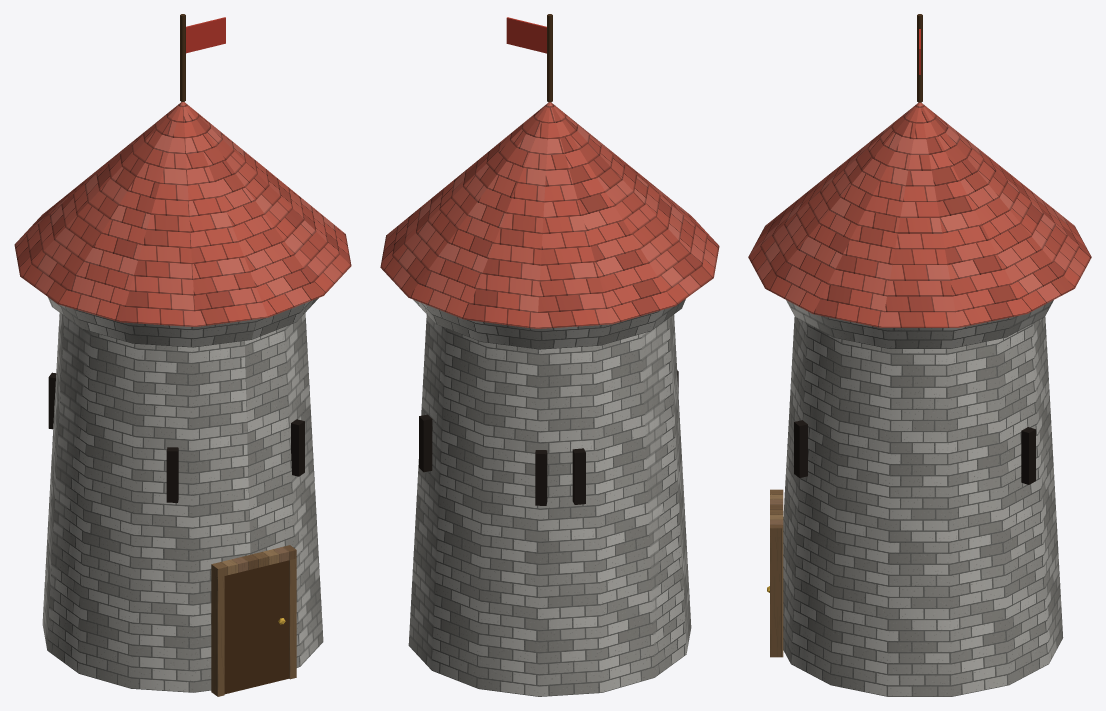
The model's file is roundtower.glb.
3 renders of one model, left to right at view 1: azimuth 30°, elevation 25°; view 2: azimuth 150°, elevation 25°; view 3: azimuth 270°, elevation 25°, orthographic.
Parts seen in each view (by area): view 1: roundtower; view 2: roundtower; view 3: roundtower.
Part boxes in pixels (bbox=[...]): roundtower: bbox=[14, 14, 351, 696]; roundtower: bbox=[380, 14, 719, 696]; roundtower: bbox=[748, 14, 1091, 696].
Bounding box in the file's own units: 3.51 × 7.2 × 3.6.
7 materials, 3 textured.
